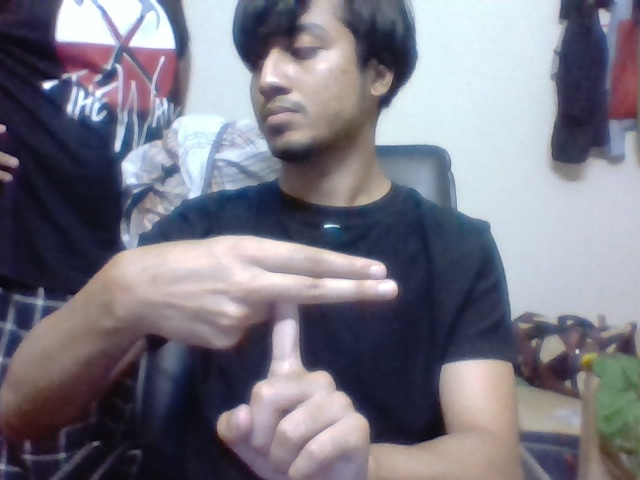F: (271, 236, 401, 364)
